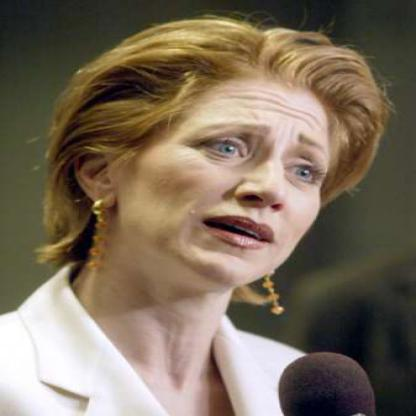face: (121, 48, 345, 296)
